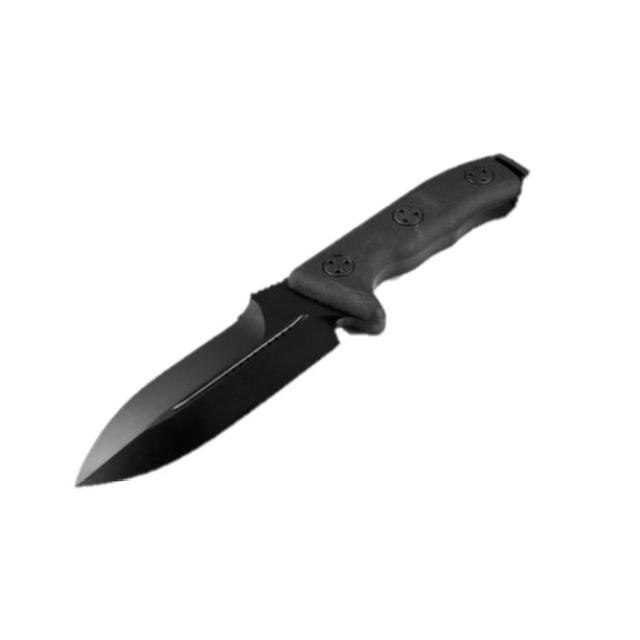knife: (61, 146, 559, 508)
